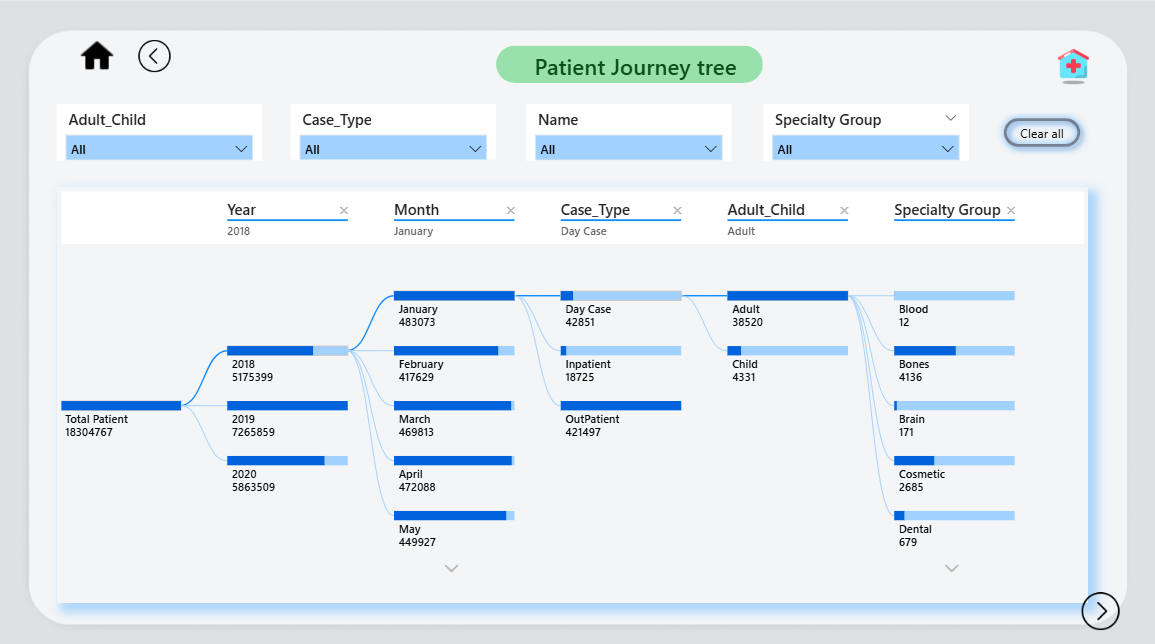

What the dashboard file says about the page in this screenshot:
{"tool":"powerbi","page":{"name":"Patient Journey tree","canvas":[1280,720],"ordinal":3},"visuals":[{"type":"image","box":[10,0,1270,720],"z":0},{"type":"decompositionTreeVisual","fields":{"Analyze":["measurs.Total Patient"],"ExplainBy":["Hospital data.Archive_Date.Variation.Date Hierarchy.Year","Hospital data.Archive_Date.Variation.Date Hierarchy.Month","Hospital data.Case_Type","Hospital data.Adult_Child","Mapping_Specialty.Specialty Group"]},"box":[85.8,212.1,1114,450.1],"z":1},{"type":"slicer","fields":{"Values":["Dis Name MH.Name"]},"box":[592.6,123.1,221.8,61.5],"z":2},{"type":"slicer","fields":{"Values":["Hospital data.Adult_Child"]},"box":[85.8,123.1,221.8,61.5],"z":3},{"type":"slicer","fields":{"Values":["Hospital data.Case_Type"]},"box":[338.4,123.1,221.8,59.9],"z":4},{"type":"slicer","fields":{"Values":["Mapping_Specialty.Specialty Group"]},"box":[848.5,123.1,221.8,61.5],"z":5},{"type":"actionButton","box":[1099.5,129.5,100.4,48.6],"z":6},{"type":"textbox","box":[527.9,59.9,365.9,45.3],"z":7},{"type":"shape","box":[560.3,59.9,288.2,40.5],"z":8},{"type":"image","box":[1185.3,642.8,55.1,55.1],"z":9},{"type":"image","box":[105.2,47,48.6,48.6],"z":10},{"type":"image","box":[161.9,47,59.9,48.6],"z":11},{"type":"image","box":[1127,55.1,113.3,51.8],"z":12}]}

Visuals, with their boxes in screenshot pixels (x1, y1, x2, y2), scaled from the page's 1280x720 canvas onto the 1155x644 screenshot:
image: [left=9, top=0, right=1154, bottom=643]
decompositionTreeVisual - measurs.Total Patient x Hospital data.Archive_Date.Variation.Date Hierarchy.Year: [left=77, top=190, right=1083, bottom=592]
slicer - Dis Name MH.Name: [left=535, top=110, right=735, bottom=165]
slicer - Hospital data.Adult_Child: [left=77, top=110, right=278, bottom=165]
slicer - Hospital data.Case_Type: [left=305, top=110, right=505, bottom=164]
slicer - Mapping_Specialty.Specialty Group: [left=766, top=110, right=966, bottom=165]
actionButton: [left=992, top=116, right=1083, bottom=159]
textbox: [left=476, top=54, right=807, bottom=94]
shape: [left=506, top=54, right=766, bottom=90]
image: [left=1070, top=575, right=1119, bottom=624]
image: [left=95, top=42, right=139, bottom=86]
image: [left=146, top=42, right=200, bottom=86]
image: [left=1017, top=49, right=1119, bottom=96]
